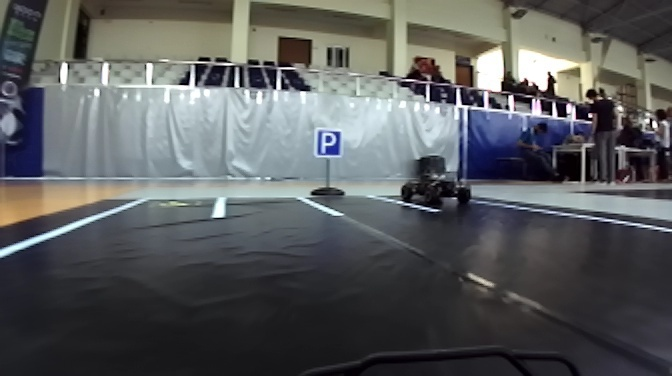park: (311, 126, 347, 159)
